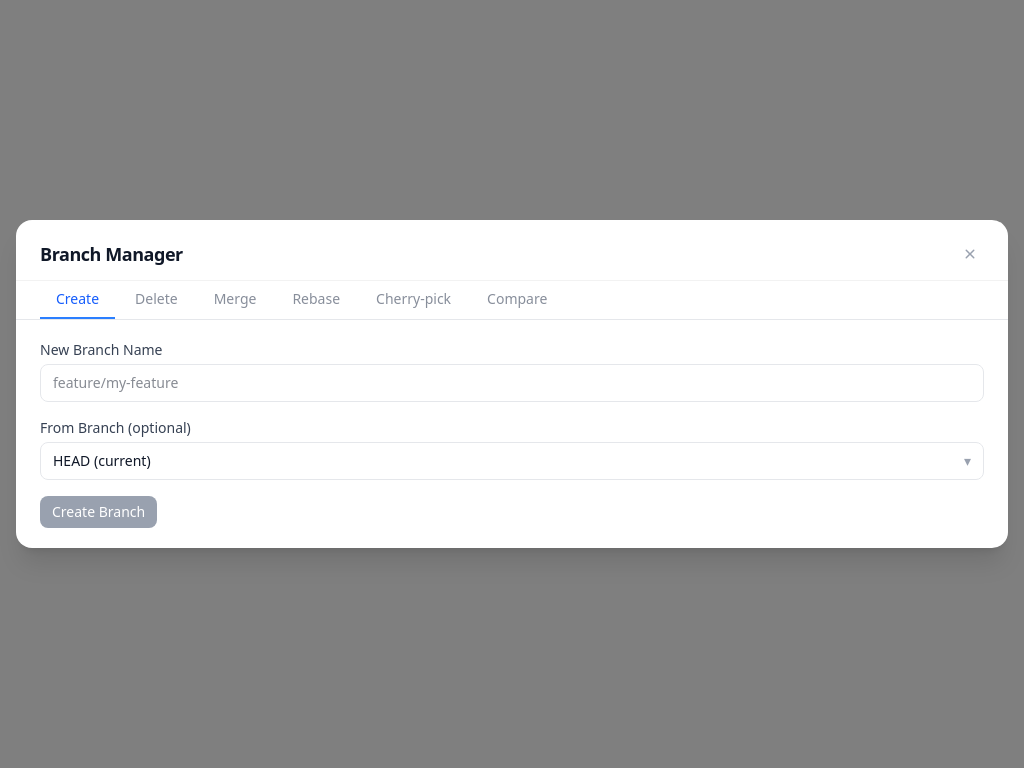
Test: BranchManager compare tab › compares against the current branch when branch A was never changed
Click the tab "Compare" at (517, 300), box [471, 281, 563, 319]
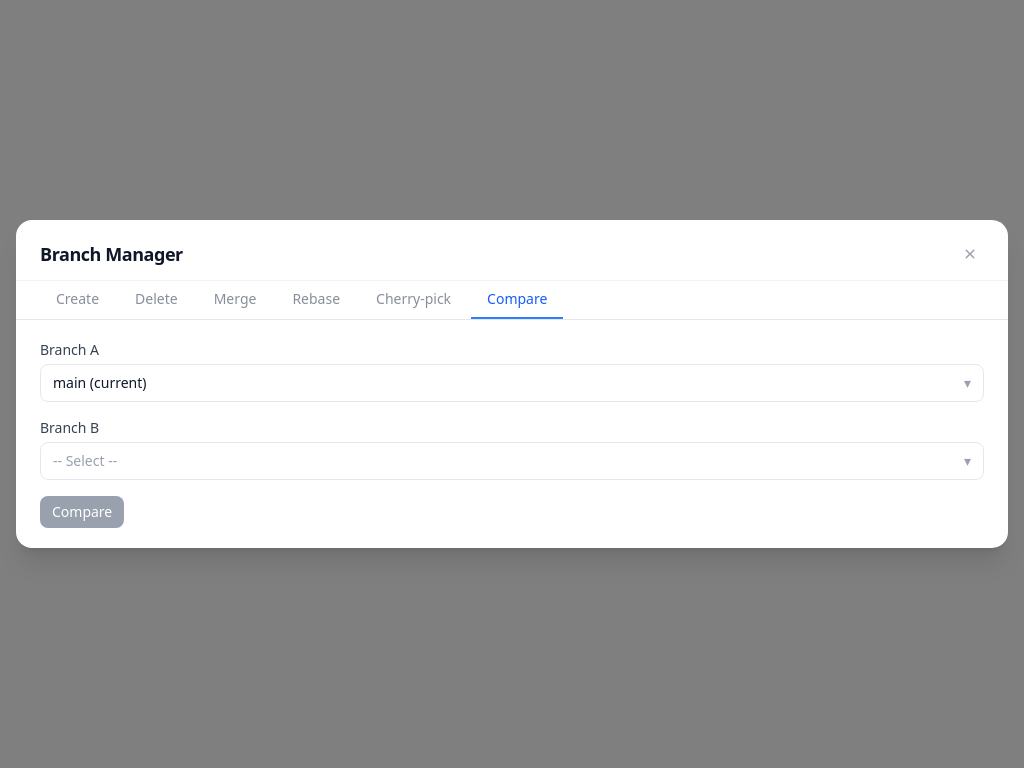
Click the button with aria-label "Branch B" at (85, 460), box [40, 442, 984, 480]
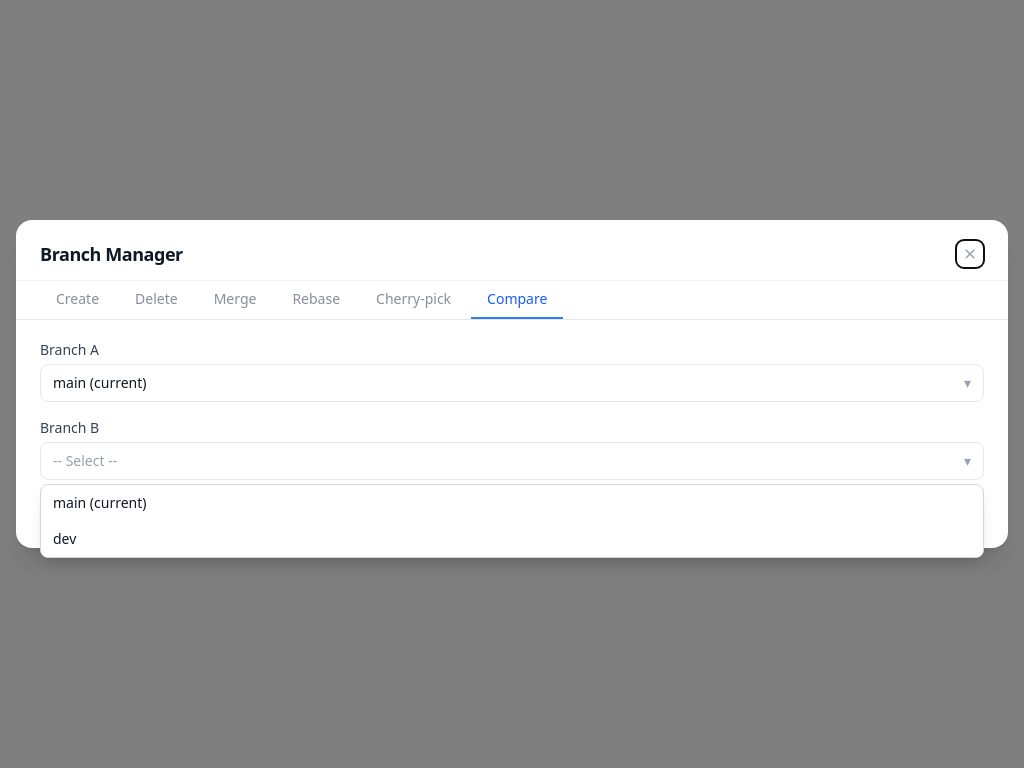
Click the option "dev" at (65, 538), box [41, 521, 983, 557]
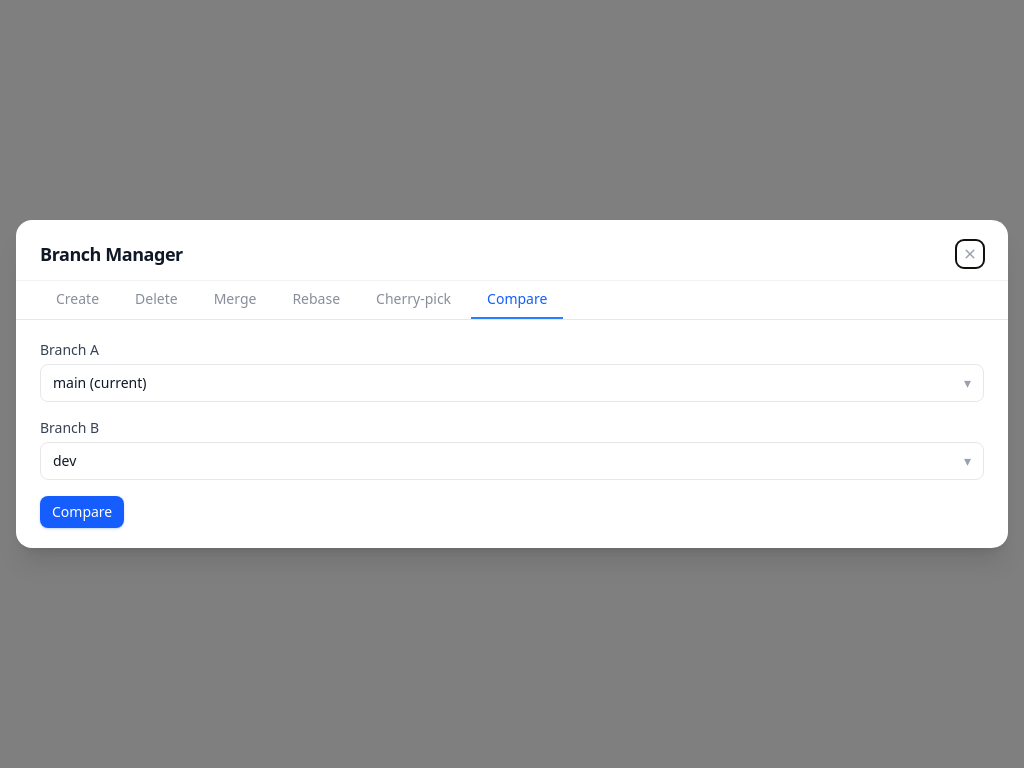
Click the button "Compare" at (82, 512), box [40, 496, 124, 528]
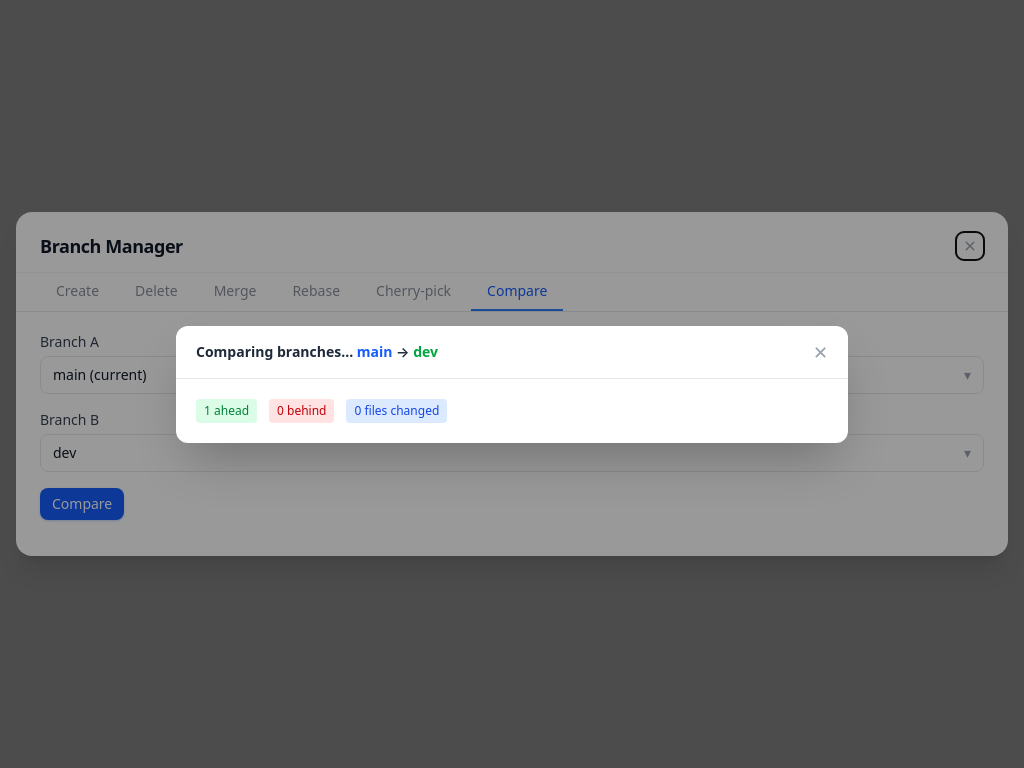
Expected: the heading "Comparing branches... main → dev" is shown, [196, 342, 438, 362]
